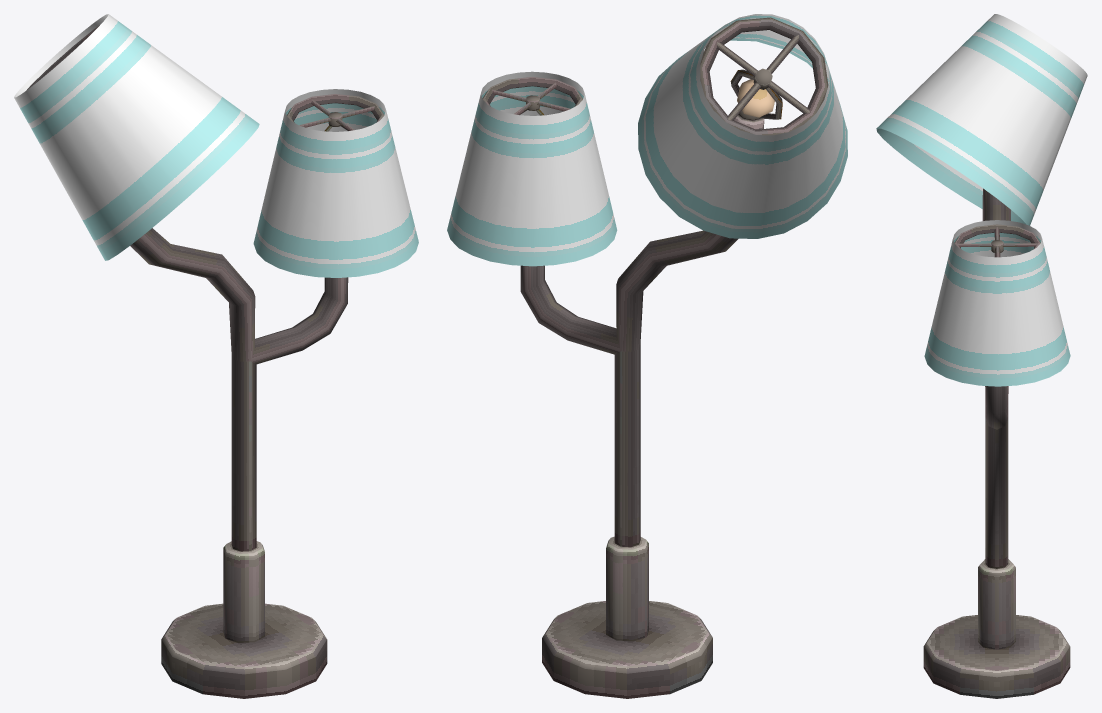
File: rmk_lse_lamp.dae
3 renders of one model, left to right at view 1: azimuth 30°, elevation 25°; view 2: azimuth 150°, elevation 25°; view 3: azimuth 270°, elevation 25°, orthographic. The views are drawn at different scales.
Visible parts, largest first — view 1: rmk_lse_lamp; view 2: rmk_lse_lamp; view 3: rmk_lse_lamp.
Boxes of the visible parts, x1,y1,x2,y2 form: rmk_lse_lamp: [14, 14, 418, 698]; rmk_lse_lamp: [447, 14, 847, 698]; rmk_lse_lamp: [876, 14, 1087, 698].
Size of the model in its own units: 27.7 by 47.74 by 15.47.
2 materials, 2 textured.
